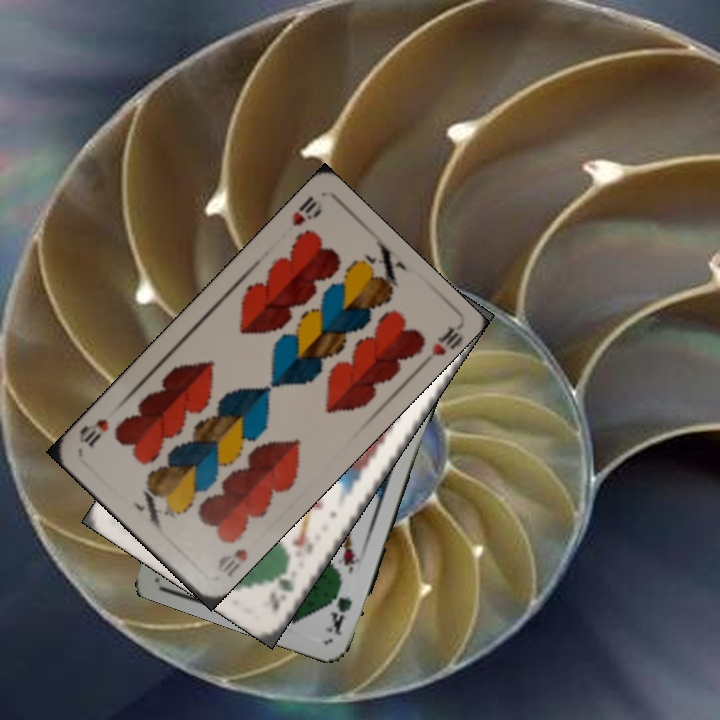GK: (321, 578, 355, 638), (265, 559, 297, 613)
H10: (287, 192, 325, 229), (212, 544, 251, 579)
